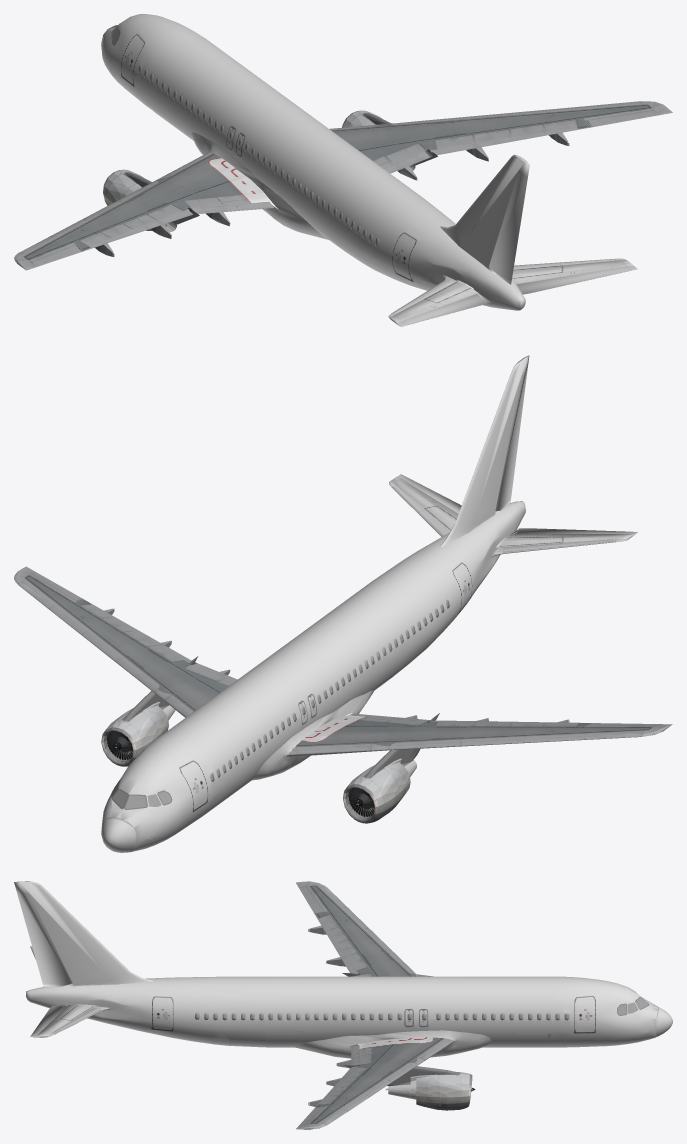
3 views of the same model, one above another, from view 1: azimuth 30°, elevation 25°; view 2: azimuth 150°, elevation 25°; view 3: azimuth 270°, elevation 25° (orthographic). The views are drawn at different scales.
Visible parts, largest first — view 1: rootNode, Nacelle; view 2: rootNode, Intake, Intake_001, Nacelle; view 3: rootNode, Nacelle_001, EngineR, Intake_001.
Boxes of the visible parts, x1,y1,x2,y2 form: rootNode: [14, 14, 672, 326]; Nacelle: [107, 172, 144, 205]; rootNode: [14, 355, 672, 852]; Intake: [343, 777, 385, 823]; Intake_001: [101, 720, 144, 766]; Nacelle: [353, 767, 400, 819]; rootNode: [14, 881, 672, 1129]; Nacelle_001: [437, 1071, 459, 1110]; EngineR: [410, 1074, 436, 1109]; Intake_001: [459, 1072, 472, 1109].
Bounding box in the file's own units: 33.91 × 11.63 × 38.27.
Materials: 29 (6 with a texture image).
